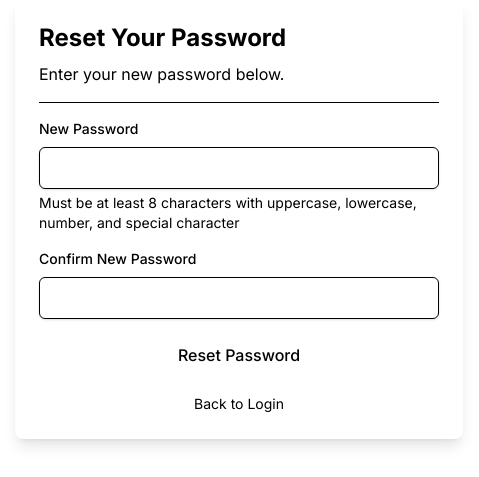
ResetPasswordPage › shows validation error when passwords do not match
The width and height of the screenshot is (479, 477).
Expected: the button "Reset Password" is shown, x1=39 y1=334 x2=439 y2=374
Step 1. Type "ValidPassword123!" into the password field labelled "New Password" → x=239, y=168, box x1=39 y1=146 x2=439 y2=188
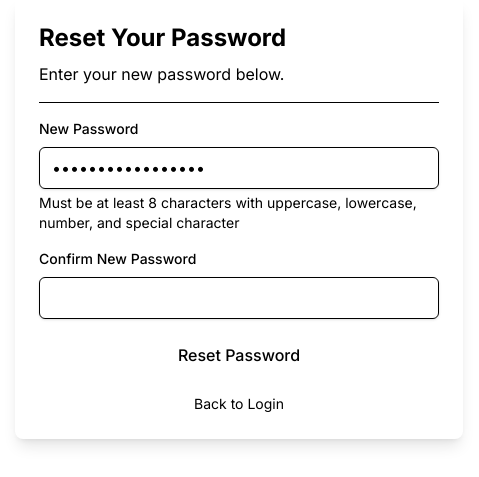
Step 2. Type "DifferentPassword123!" into the password field labelled "Confirm New Password" → x=239, y=298, box x1=39 y1=276 x2=439 y2=318
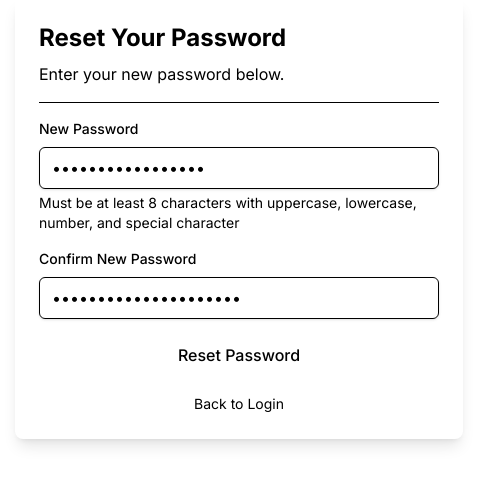
Step 3. Click the button "Reset Password" → x=239, y=354, box x1=39 y1=334 x2=439 y2=374
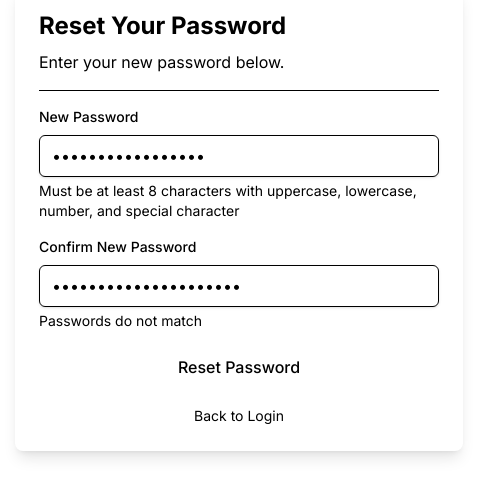
Expected: the text "Passwords do not match" is shown, x1=39 y1=312 x2=202 y2=328
